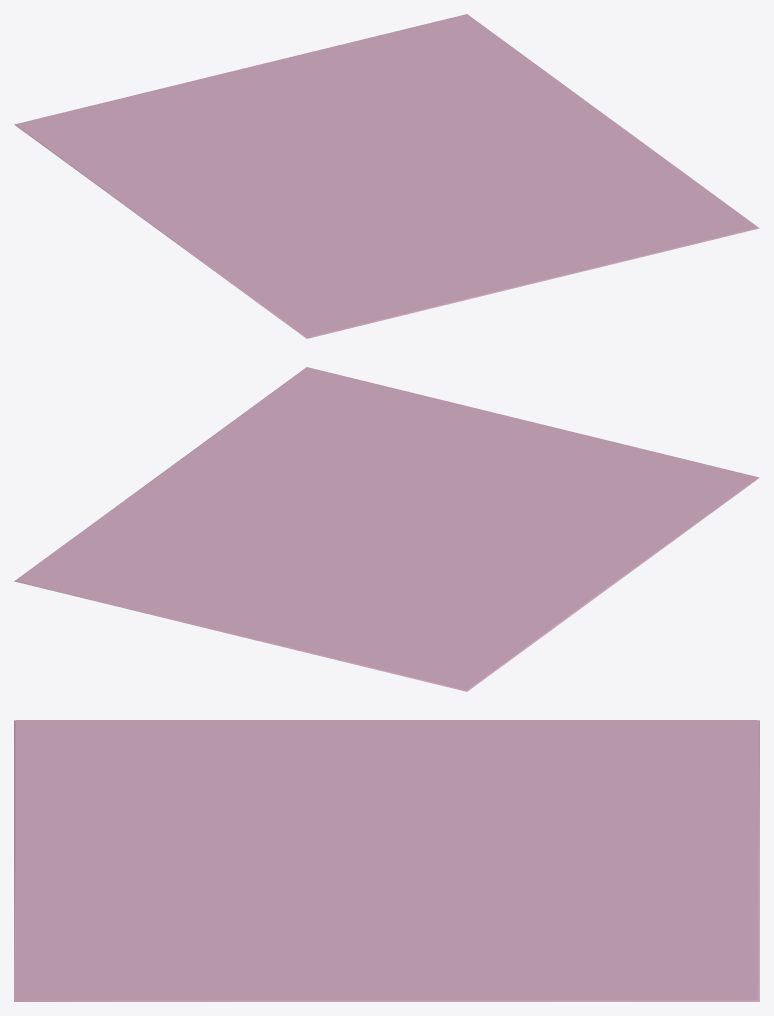
3 renders of one model, top to bottom at view 1: azimuth 30°, elevation 25°; view 2: azimuth 150°, elevation 25°; view 3: azimuth 270°, elevation 25°, orthographic. The views are drawn at different scales.
Visible parts, largest first — view 1: G:\FFXIV-MapTools\exports\x6t1\bg\ex5\01_xkt_x6\twn\x6t1\bgp; view 2: G:\FFXIV-MapTools\exports\x6t1\bg\ex5\01_xkt_x6\twn\x6t1\bgp; view 3: G:\FFXIV-MapTools\exports\x6t1\bg\ex5\01_xkt_x6\twn\x6t1\bgp.
Boxes of the visible parts, box(x1,y1,x2,y2) form: G:\FFXIV-MapTools\exports\x6t1\bg\ex5\01_xkt_x6\twn\x6t1\bgp: box(14, 14, 759, 338); G:\FFXIV-MapTools\exports\x6t1\bg\ex5\01_xkt_x6\twn\x6t1\bgp: box(14, 367, 759, 691); G:\FFXIV-MapTools\exports\x6t1\bg\ex5\01_xkt_x6\twn\x6t1\bgp: box(14, 720, 759, 1001).
Size of the model in its own units: 6.04 by 0.01 by 6.76.
